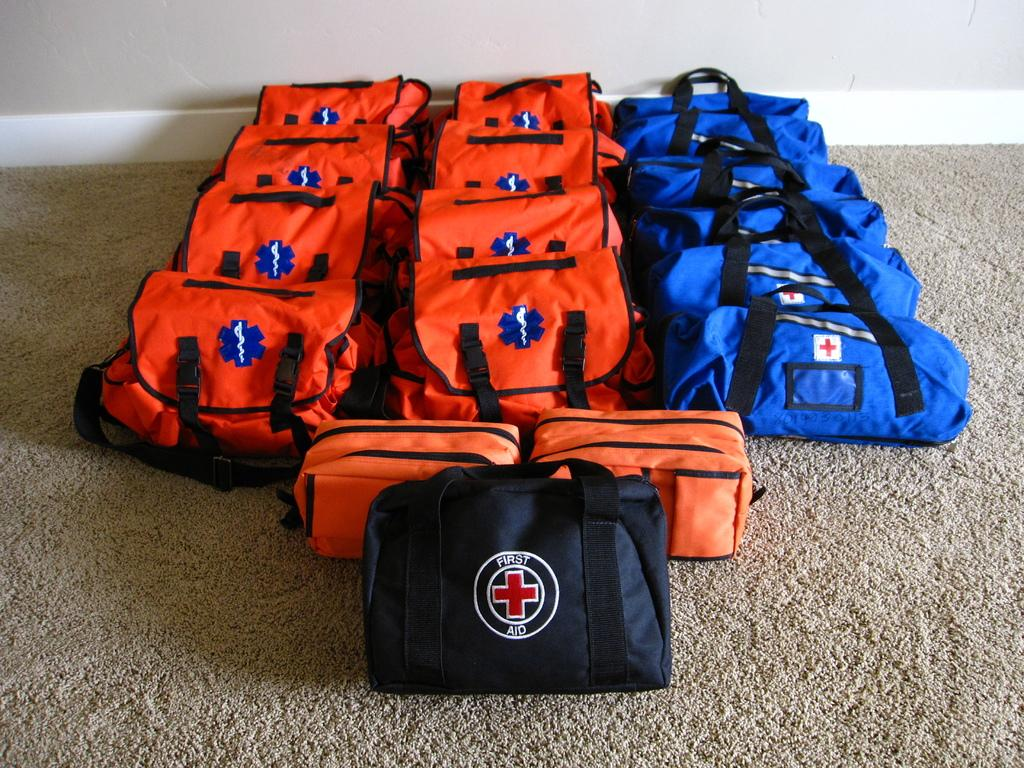Luggage-and-bags: (141, 115, 979, 627)
